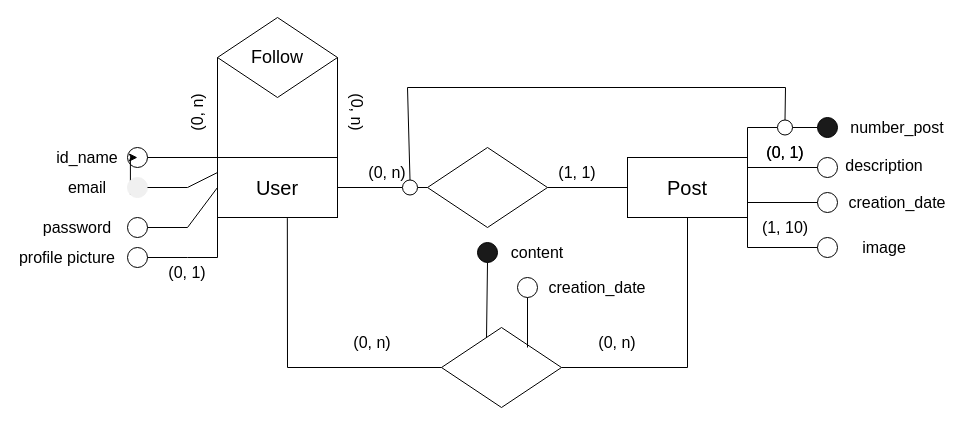
This 963x425 diagram has some shape labels left out. Each missing label, with the centre of its shape:
"Create" belongs at [487,187].
"Write comments" belongs at [501,367].
